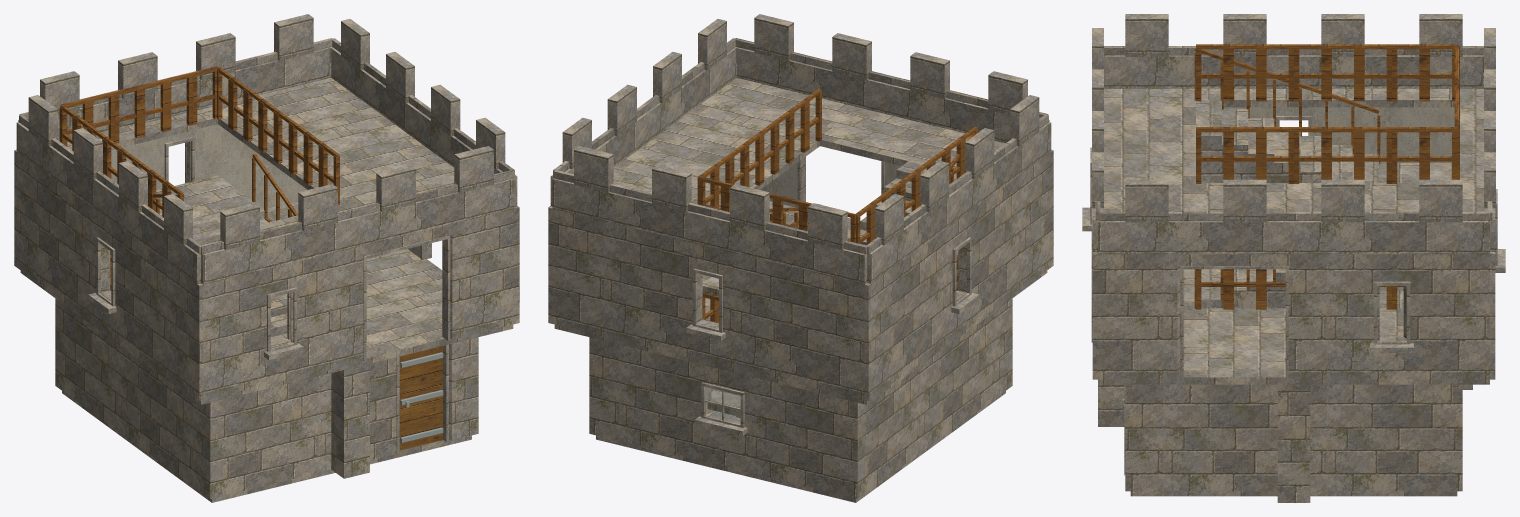
The model's file is castle-corner-tower.gltf.
3 renders of one model, left to right at view 1: azimuth 30°, elevation 25°; view 2: azimuth 150°, elevation 25°; view 3: azimuth 270°, elevation 25°, orthographic. The views are drawn at different scales.
Visible parts, largest first — view 1: roof-parapet-L2-stone, exterior-L1-stone, exterior-L0-stone, roof-terrace-L2-stone, roof-guards-L2-wood, floor-L1-stone, exterior-L1-plaster, structure-L0-stone, datum-band-L1-stone, door-L0-door, stairs-L1-stone, facade-trim-L1-stone (+6 smaller); view 2: roof-parapet-L2-stone, exterior-L1-stone, exterior-L0-stone, roof-terrace-L2-stone, roof-guards-L2-wood, datum-band-L1-stone, floor-L1-stone, facade-trim-L1-stone, floor-L0-stone, facade-trim-L0-stone, exterior-L1-plaster, stairs-L1-stone (+2 smaller); view 3: roof-parapet-L2-stone, exterior-L1-stone, exterior-L0-stone, roof-terrace-L2-stone, roof-guards-L2-wood, floor-L1-stone, stairs-L1-stone, exterior-L1-plaster, structure-L0-stone, datum-band-L1-stone, facade-trim-L1-stone, stairs-L1-wood (+3 smaller).
Boxes of the visible parts, x1,y1,x2,y2 form: roof-parapet-L2-stone: (16, 14, 517, 284); exterior-L1-stone: (14, 141, 519, 400); exterior-L0-stone: (55, 298, 478, 498); roof-terrace-L2-stone: (67, 78, 454, 245); roof-guards-L2-wood: (59, 66, 339, 217); floor-L1-stone: (20, 201, 513, 404); exterior-L1-plaster: (111, 124, 420, 258); structure-L0-stone: (331, 363, 369, 478); datum-band-L1-stone: (14, 150, 519, 292); door-L0-door: (399, 346, 442, 450); stairs-L1-stone: (156, 175, 287, 337); facade-trim-L1-stone: (88, 136, 303, 359); roof-parapet-L2-stone: (550, 14, 1051, 284); exterior-L1-stone: (548, 157, 1053, 400); exterior-L0-stone: (589, 298, 1012, 498); roof-terrace-L2-stone: (613, 78, 1005, 207); roof-guards-L2-wood: (697, 88, 978, 244); datum-band-L1-stone: (548, 150, 1053, 292); floor-L1-stone: (554, 201, 1047, 404); facade-trim-L1-stone: (686, 237, 979, 340); floor-L0-stone: (596, 388, 1005, 502); facade-trim-L0-stone: (694, 382, 747, 436); exterior-L1-plaster: (760, 162, 901, 207); stairs-L1-stone: (702, 161, 956, 296); roof-parapet-L2-stone: (1092, 14, 1495, 254); exterior-L1-stone: (1092, 261, 1495, 379); exterior-L0-stone: (1125, 384, 1462, 491); roof-terrace-L2-stone: (1103, 88, 1484, 211); roof-guards-L2-wood: (1196, 44, 1459, 183); floor-L1-stone: (1098, 269, 1489, 384); stairs-L1-stone: (1196, 100, 1451, 308); exterior-L1-plaster: (1223, 107, 1454, 162); structure-L0-stone: (1098, 384, 1310, 502); datum-band-L1-stone: (1092, 252, 1495, 261); facade-trim-L1-stone: (1082, 116, 1505, 352); stairs-L1-wood: (1194, 49, 1380, 308).
Bounding box in the file's own units: 6.48 × 5.54 × 6.48.
6 materials, 4 textured.
